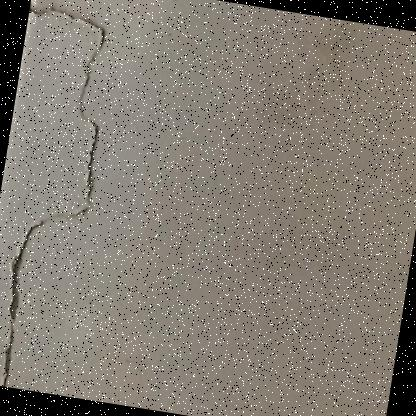Crack: (0, 0, 183, 404)
